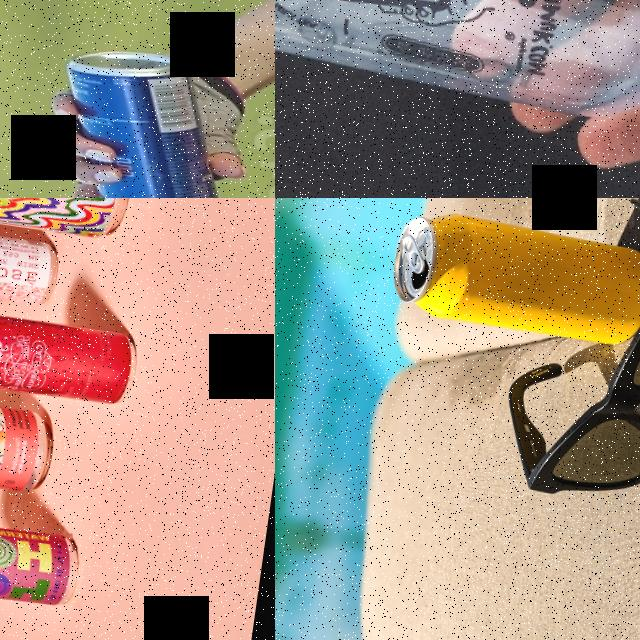can: (383, 203, 640, 354), (40, 36, 253, 198), (0, 303, 143, 407), (0, 502, 85, 615), (0, 383, 58, 497), (0, 210, 62, 309)
cup: (275, 0, 640, 134)
